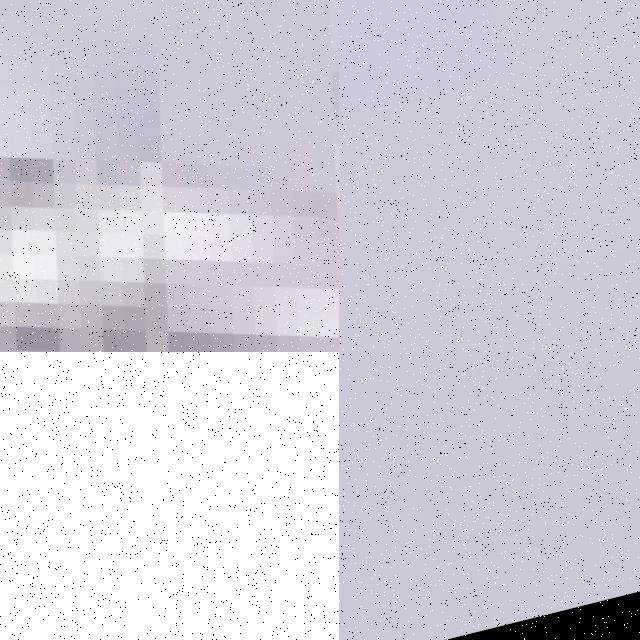0: (0, 0, 339, 352)
drone: (0, 352, 339, 640)
